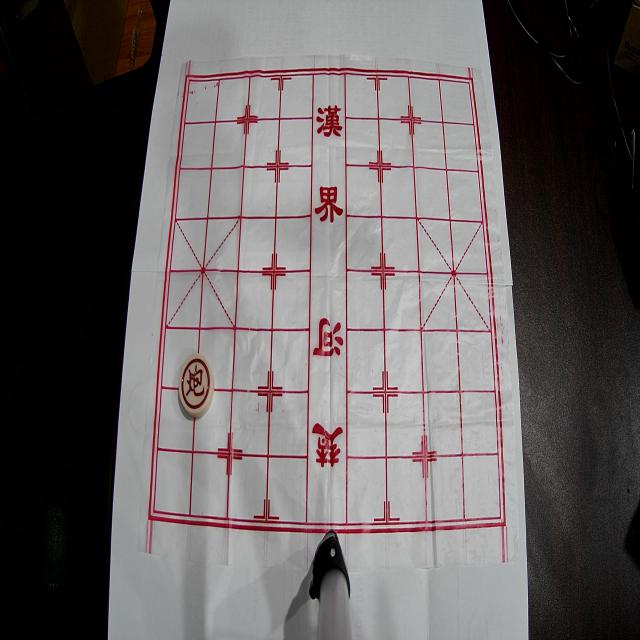red-cannon: (179, 353, 214, 418)
